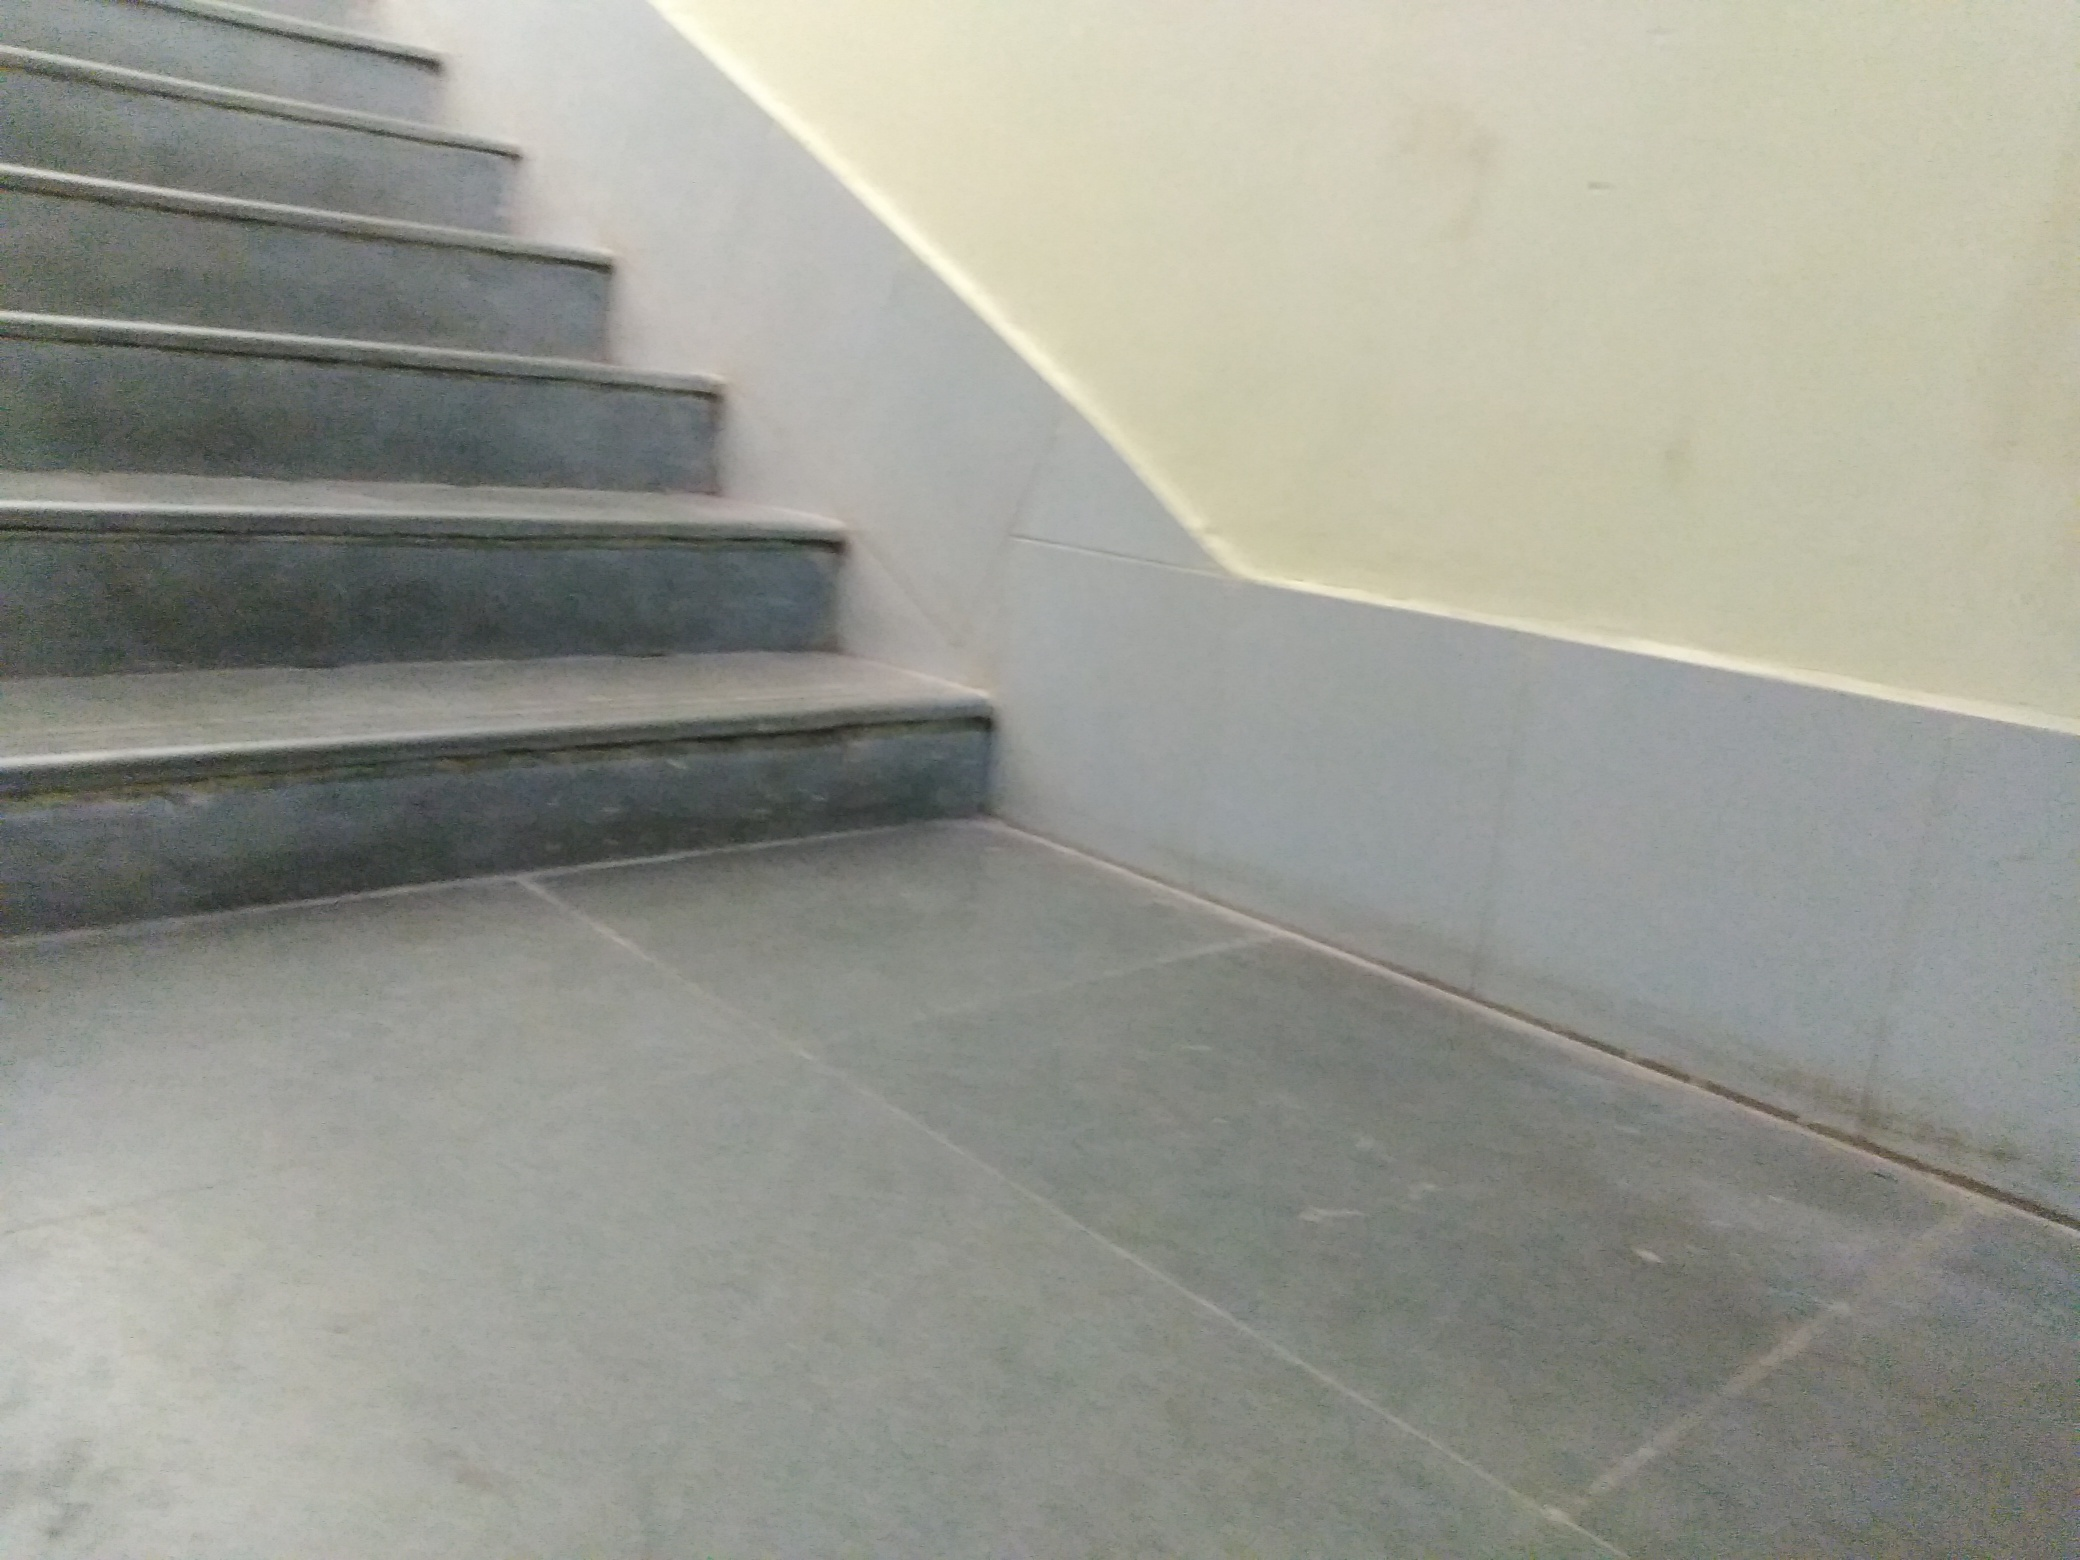stairs_up: (11, 8, 956, 890)
